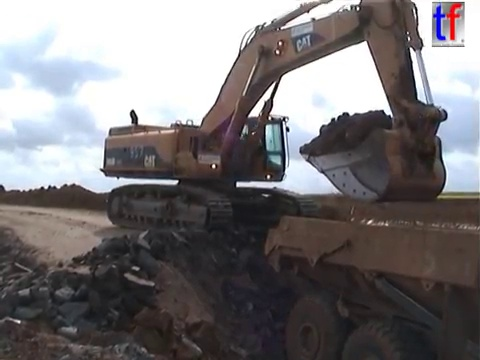excavator: (95, 1, 452, 240)
truck: (261, 193, 480, 360)
